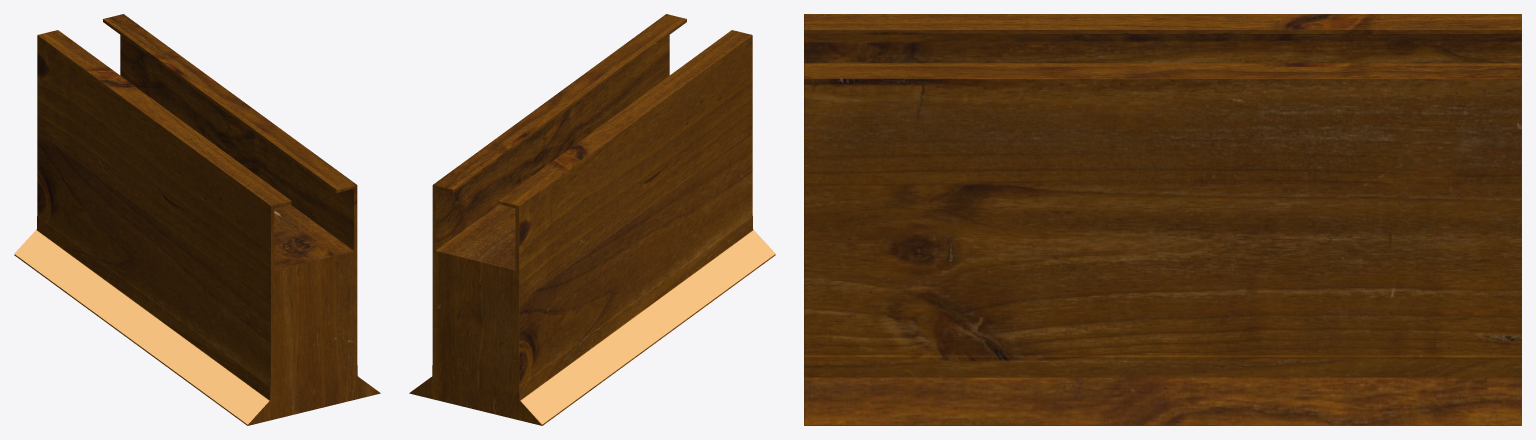
Rendered from baffle-cove.glb.
3 views of the same model, side by side, from view 1: azimuth 30°, elevation 25°; view 2: azimuth 150°, elevation 25°; view 3: azimuth 270°, elevation 25° (orthographic). The views are drawn at different scales.
Visible parts, largest first — view 1: cove-light.001; view 2: cove-light.001; view 3: cove-light.001.
Part boxes in pixels (x1=…): cove-light.001: x1=14, y1=14, x2=380, y2=425; cove-light.001: x1=409, y1=14, x2=775, y2=425; cove-light.001: x1=804, y1=14, x2=1521, y2=425.
Bounding box in the file's own units: 0.859 × 1.32 × 2.6.
2 materials, 1 textured.
